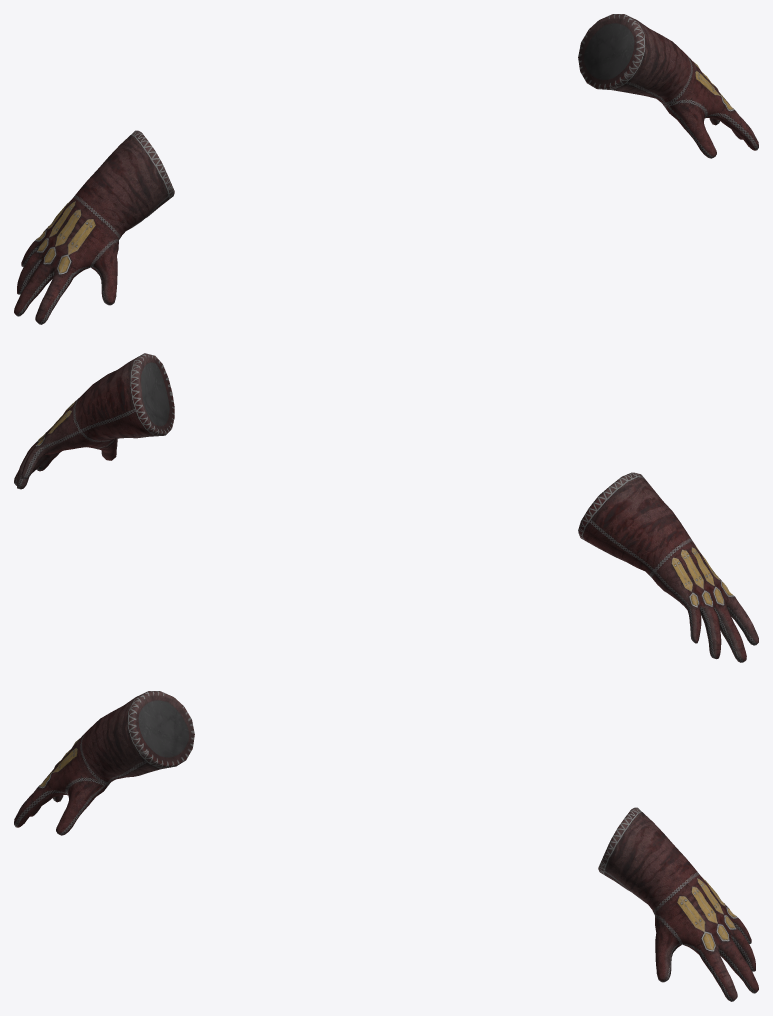
The model's file is sk_dwarf_dain_gloves_a.fbx.
3 views of the same model, one above another, from view 1: azimuth 30°, elevation 25°; view 2: azimuth 150°, elevation 25°; view 3: azimuth 330°, elevation 25° (orthographic).
Visible parts, largest first — view 1: sk_dwarf_dain_gloves_a; view 2: sk_dwarf_dain_gloves_a; view 3: sk_dwarf_dain_gloves_a.
Part boxes in pixels (<box>): sk_dwarf_dain_gloves_a: <box>14,14,758,324</box>; sk_dwarf_dain_gloves_a: <box>14,353,758,662</box>; sk_dwarf_dain_gloves_a: <box>14,691,758,1001</box>.
Size of the model in its own units: 1.43 by 0.1856 by 0.2896.
1 material, 1 textured.
